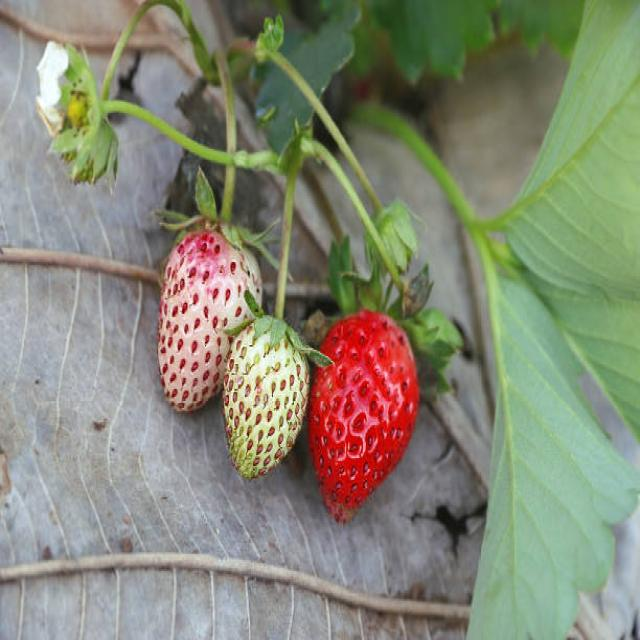Healthy Fruit: (308, 313, 417, 519), (157, 227, 263, 414), (225, 319, 311, 481)
